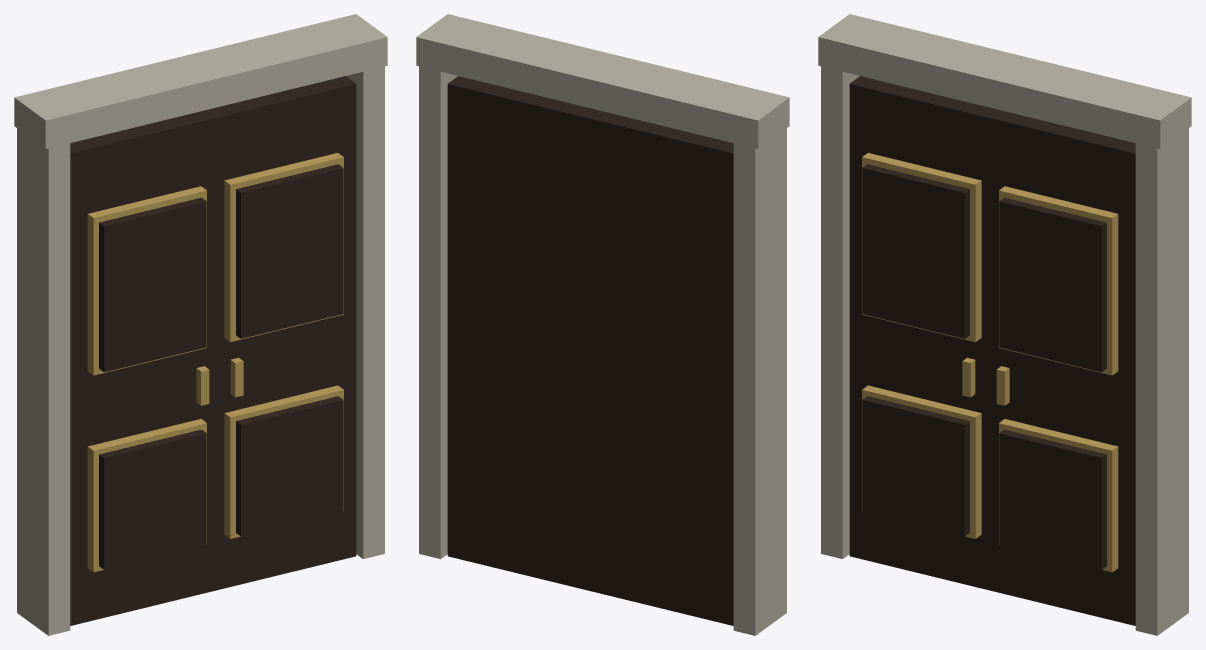
Rendered from exitDoor.glb.
3 views of the same model, side by side, from view 1: azimuth 30°, elevation 25°; view 2: azimuth 150°, elevation 25°; view 3: azimuth 330°, elevation 25° (orthographic).
Visible parts, largest first — view 1: Museum exit doorway; view 2: Museum exit doorway; view 3: Museum exit doorway.
Part boxes in pixels (box(x1,y1,x2,y2)): Museum exit doorway: box(14, 14, 387, 635); Museum exit doorway: box(416, 14, 789, 635); Museum exit doorway: box(818, 14, 1191, 635).
Size of the model in its own units: 2.5 by 3.6 by 0.49.
